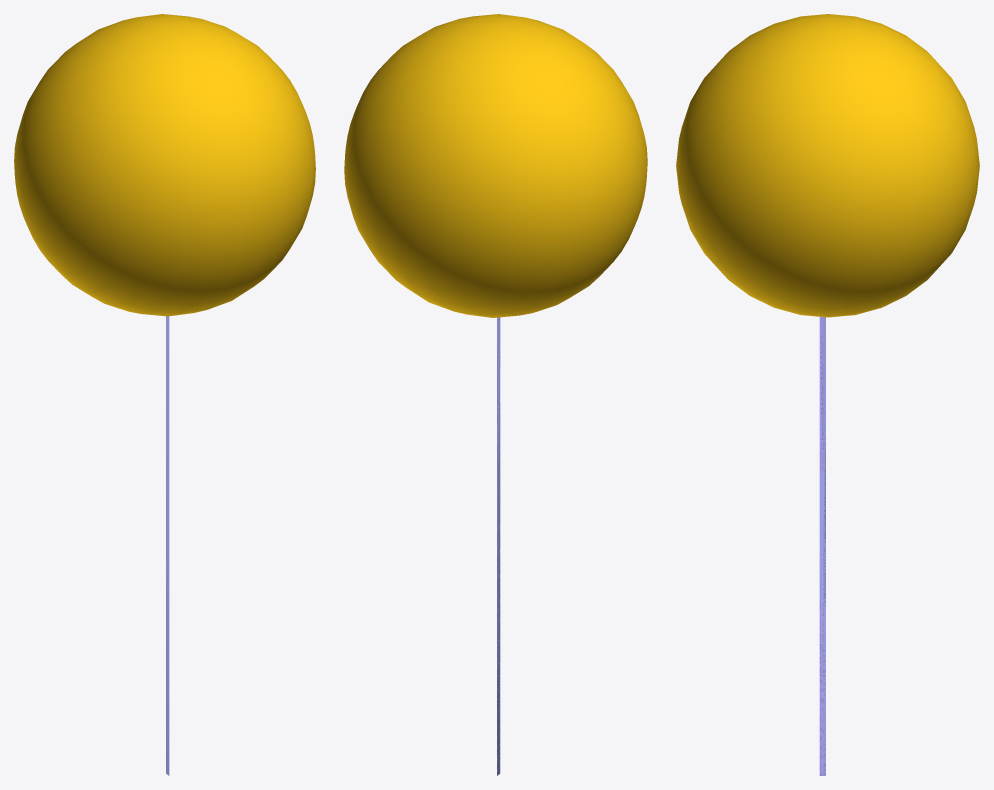
File: globo.obj
3 renders of one model, left to right at view 1: azimuth 30°, elevation 25°; view 2: azimuth 150°, elevation 25°; view 3: azimuth 270°, elevation 25°, orthographic.
Parts seen in each view (by area): view 1: Sphere001, Box001; view 2: Sphere001, Box001; view 3: Sphere001, Box001.
Part boxes in pixels (bbox=[...]): Sphere001: bbox=[14, 14, 315, 316]; Box001: bbox=[166, 316, 169, 775]; Sphere001: bbox=[344, 14, 647, 317]; Box001: bbox=[497, 317, 500, 775]; Sphere001: bbox=[676, 14, 979, 317]; Box001: bbox=[819, 317, 825, 775].
Bounding box in the file's own units: 2.07 × 5.63 × 2.07.
